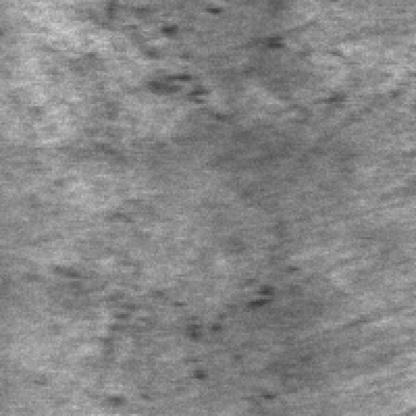rolled-in_scale: (46, 256, 287, 387), (70, 0, 304, 106)
